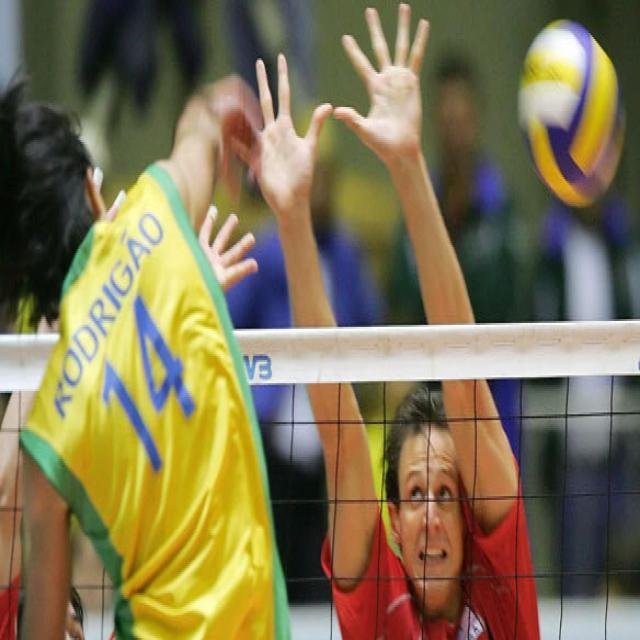volleyball: (517, 18, 623, 207)
